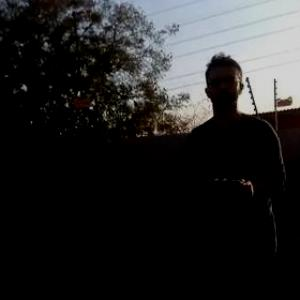follow: (186, 49, 294, 299)
